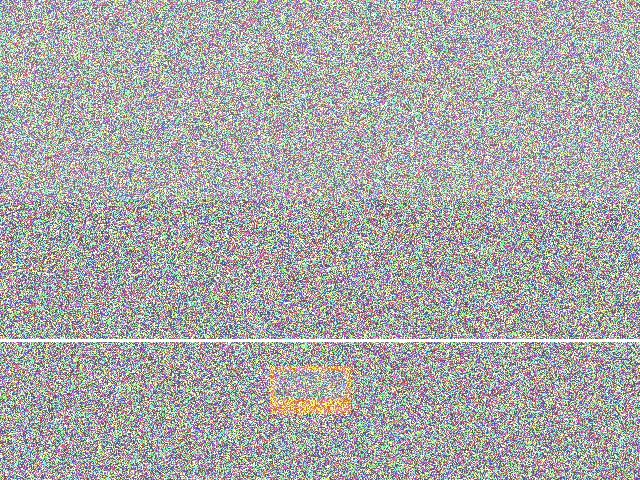car: (477, 168, 584, 292), (369, 379, 477, 464)
truck: (300, 251, 429, 324)
